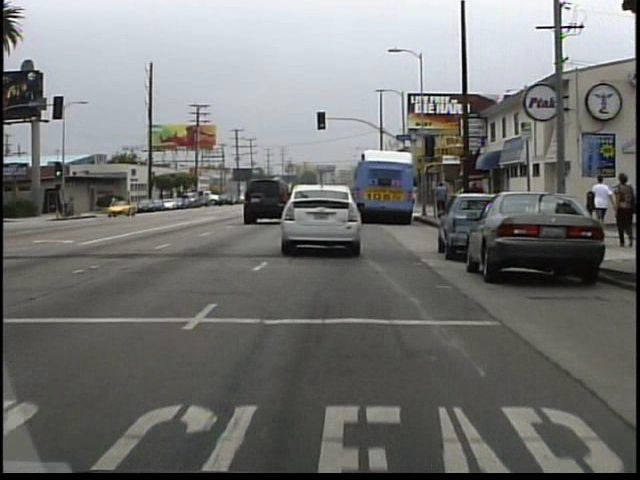person: (612, 171, 638, 249), (589, 171, 614, 223), (431, 181, 450, 222), (110, 193, 123, 217)
